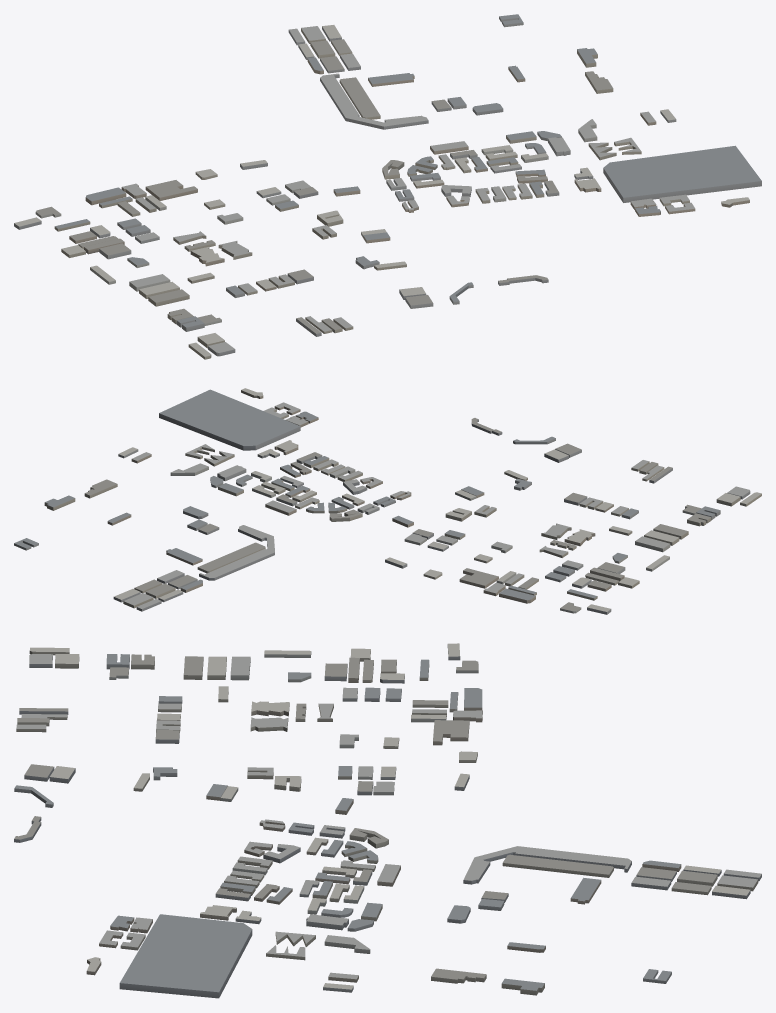
File: bld_17_8.fbx
3 renders of one model, top to bottom at view 1: azimuth 30°, elevation 25°; view 2: azimuth 150°, elevation 25°; view 3: azimuth 270°, elevation 25°, orthographic. The views are drawn at different scales.
Parts seen in each view (by area): view 1: bld_17_8_LOD0; view 2: bld_17_8_LOD0; view 3: bld_17_8_LOD0.
Part boxes in pixels (x1,y1,x2,y2): bld_17_8_LOD0: (14,14,761,359); bld_17_8_LOD0: (14,388,761,614); bld_17_8_LOD0: (14,643,761,998).
Bounding box in the file's own units: 2059 × 16.92 × 1853.
